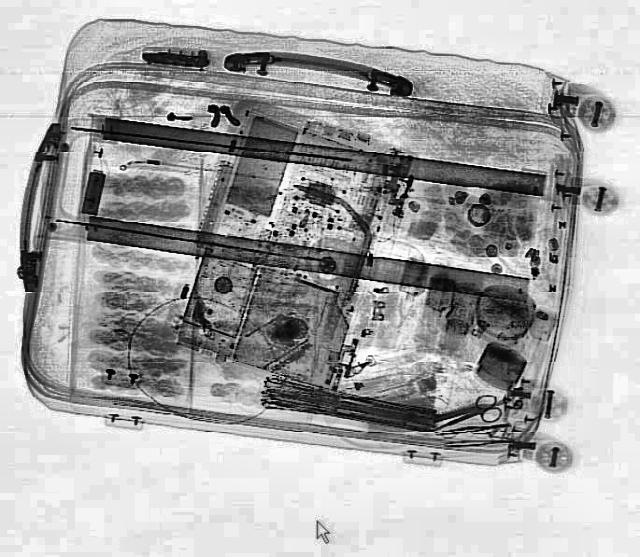Scissors: (421, 392, 505, 445)
